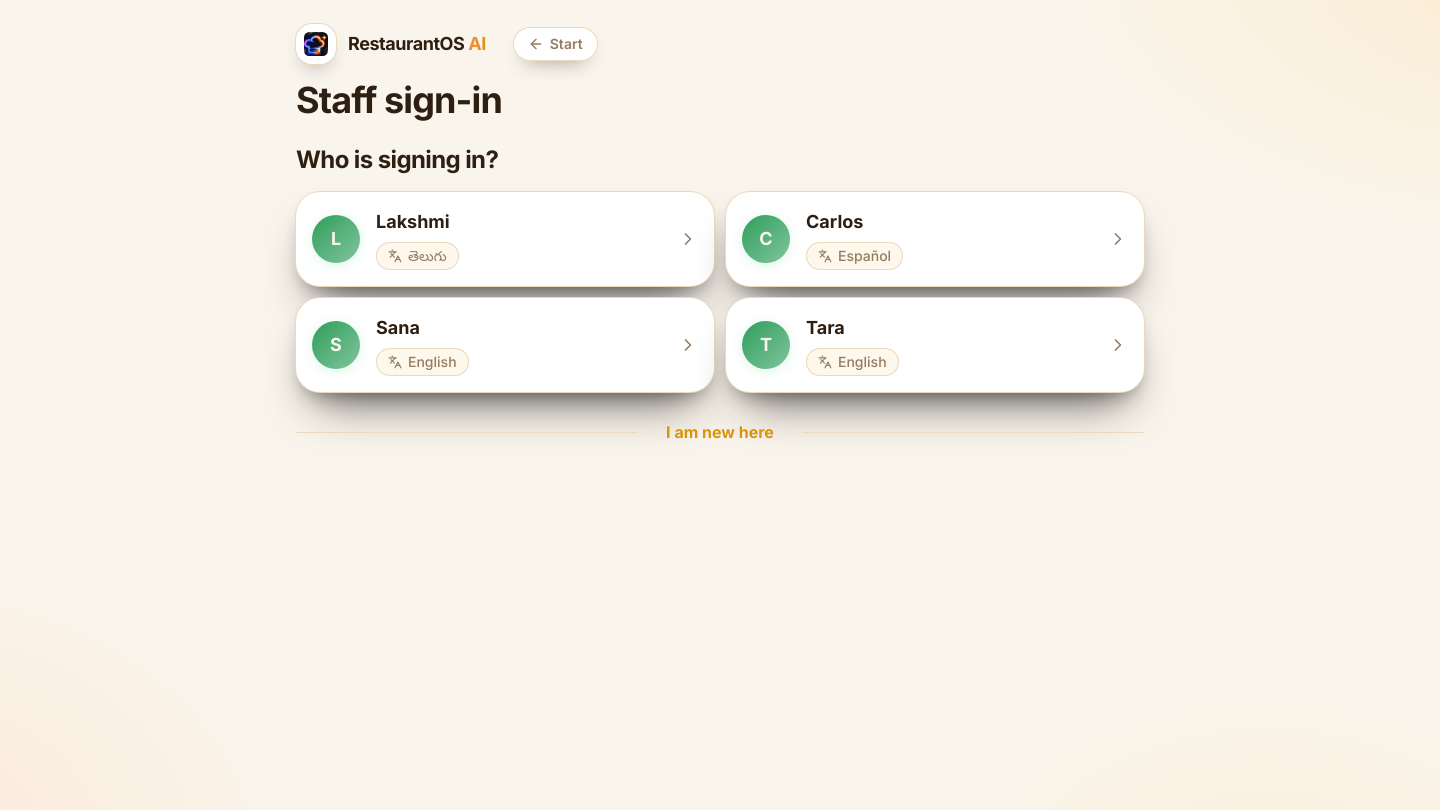
Test: login_with_the_usual_job_taken_lands_on_the_picker_with_a_note
This screenshot has width=1440, height=810.
Click the button "T Tara English" at (766, 345), box left=726, top=298, right=1144, bottom=392
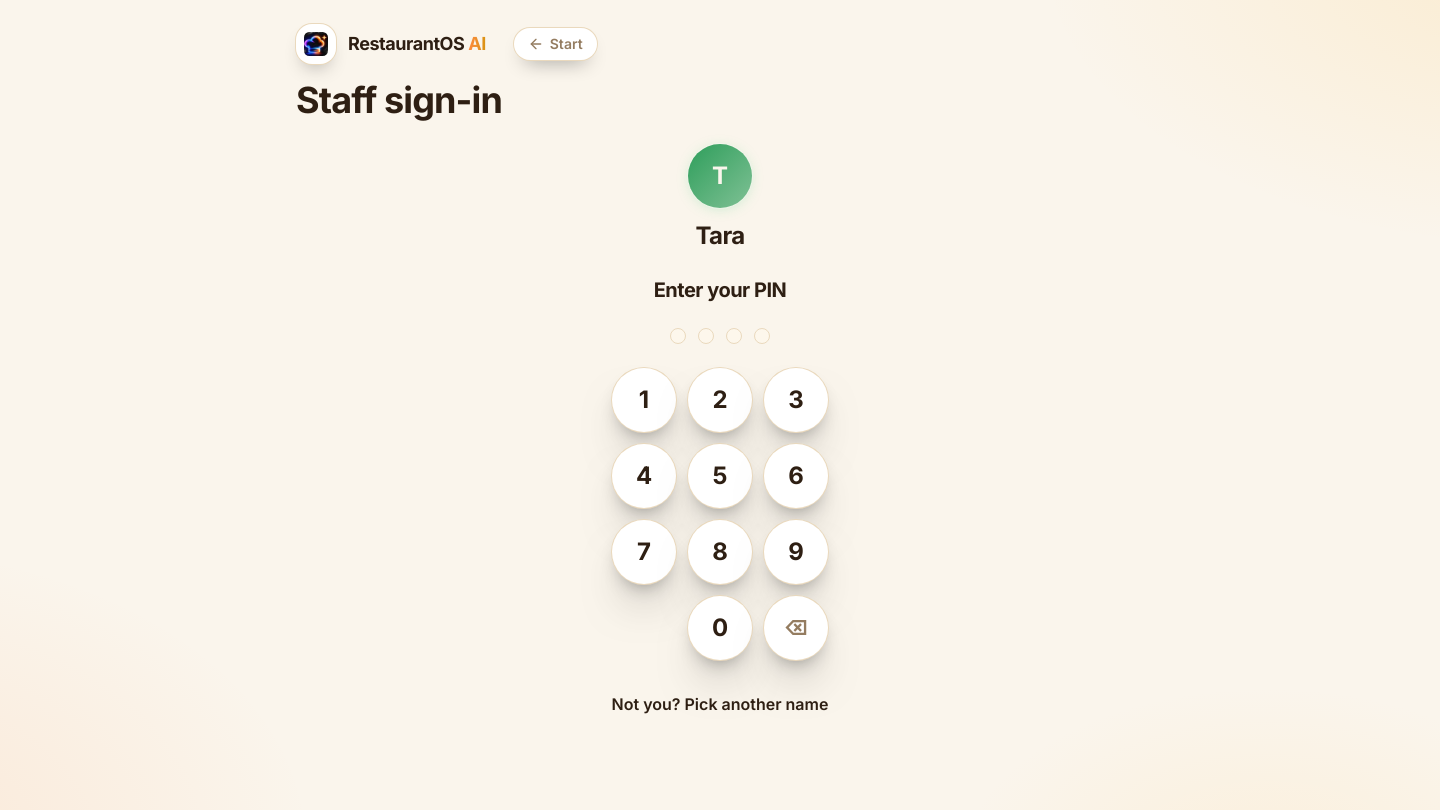
Click the button "1" at (644, 400), box left=612, top=368, right=676, bottom=432
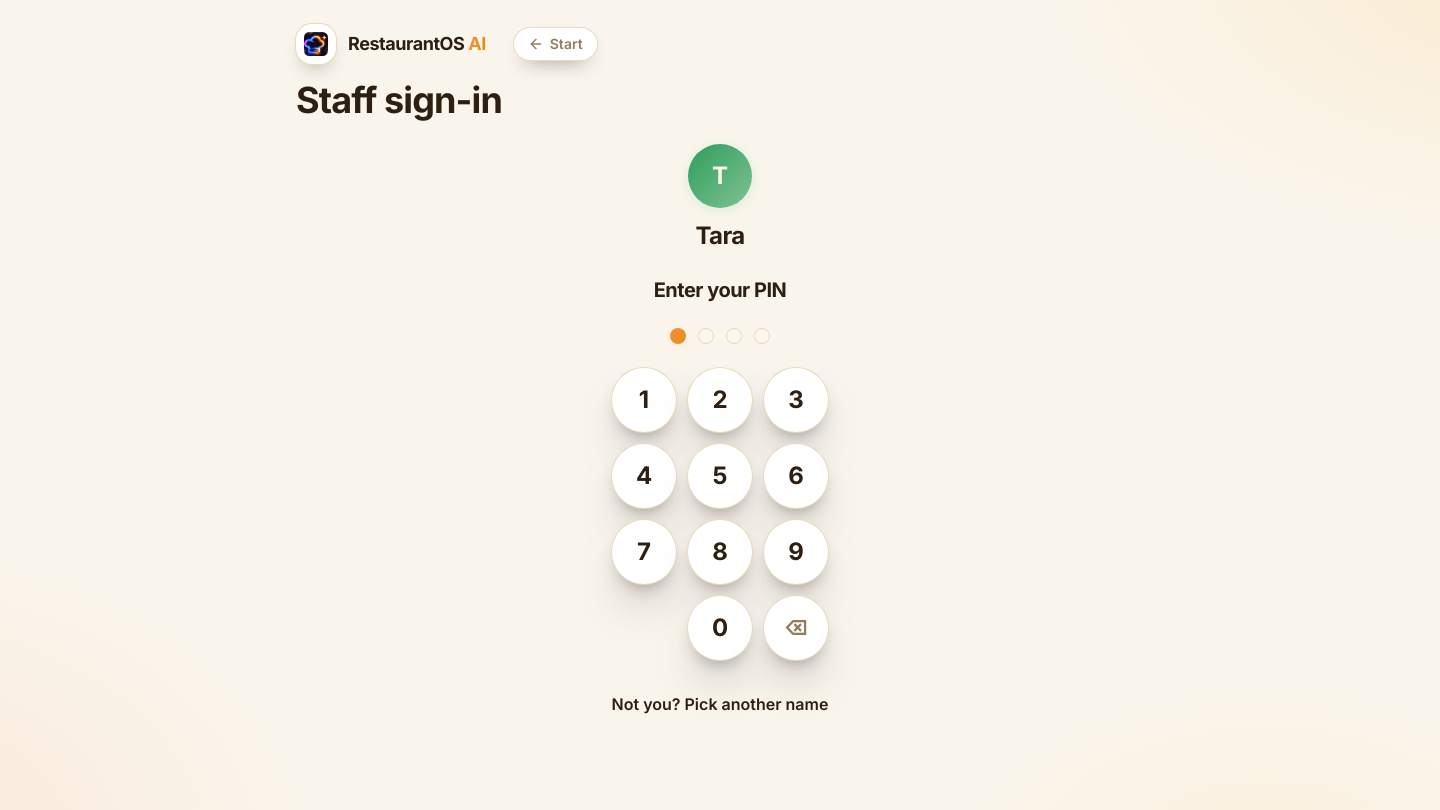
Click the button "1" at (644, 400), box left=612, top=368, right=676, bottom=432
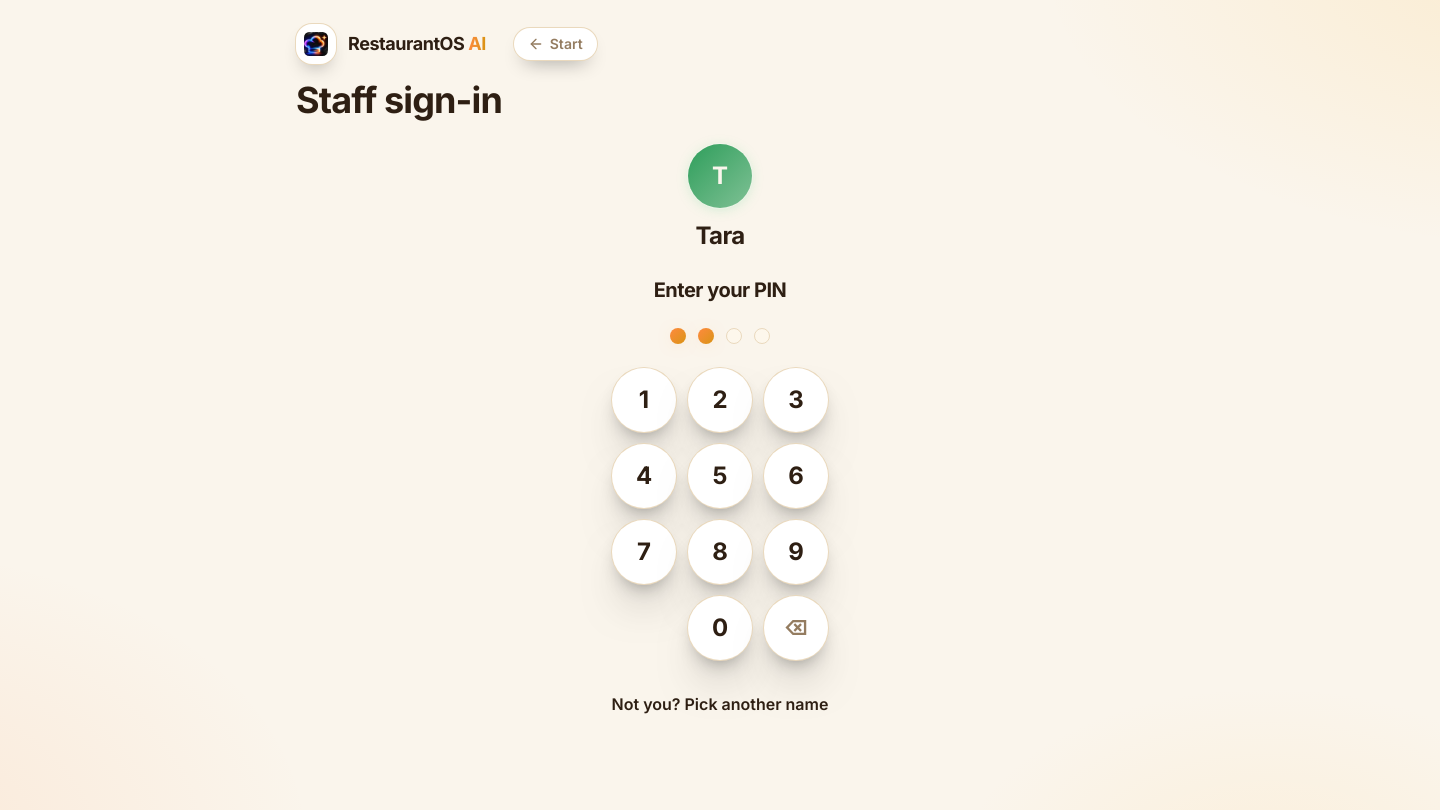
Click the button "1" at (644, 400), box left=612, top=368, right=676, bottom=432
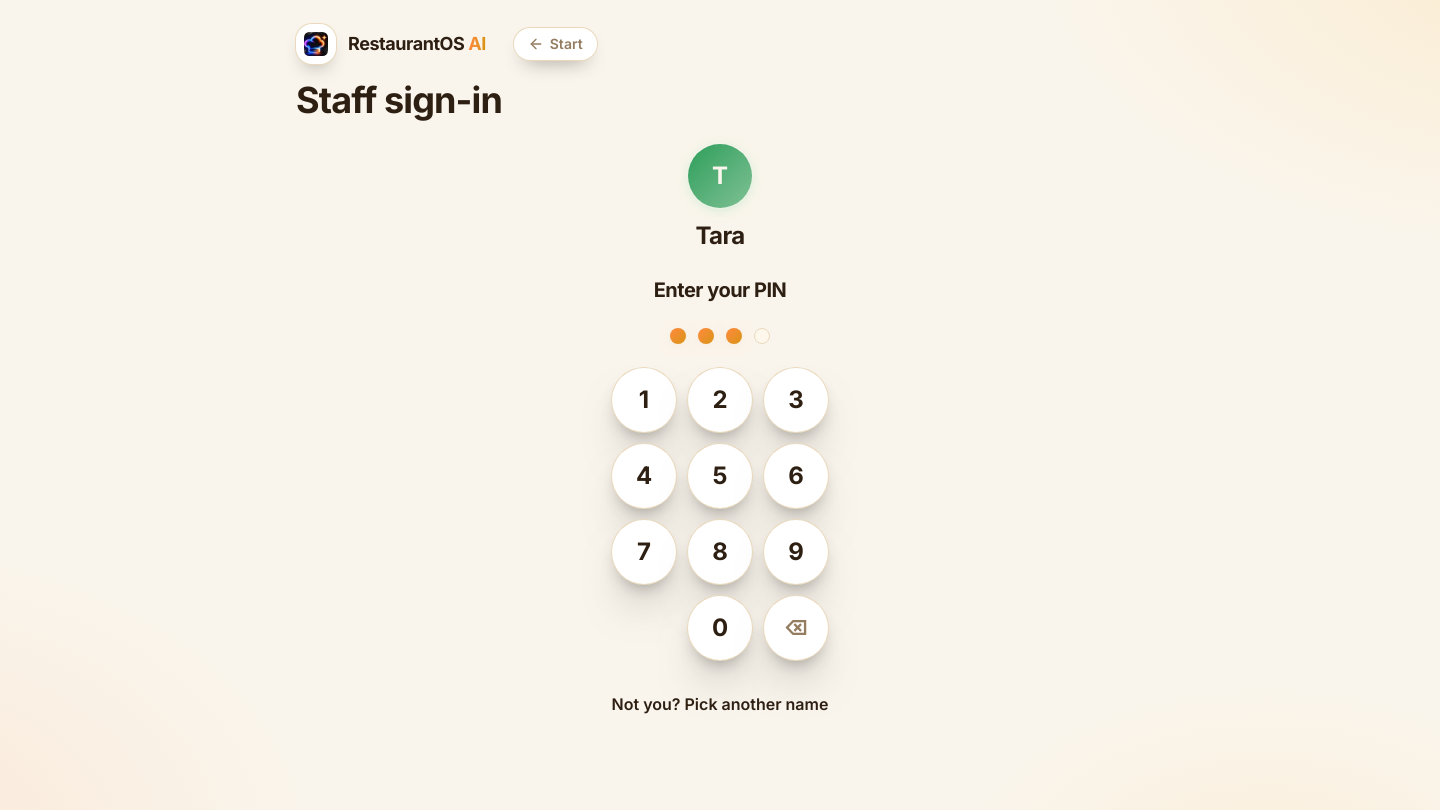
Click the button "1" at (644, 400), box left=612, top=368, right=676, bottom=432
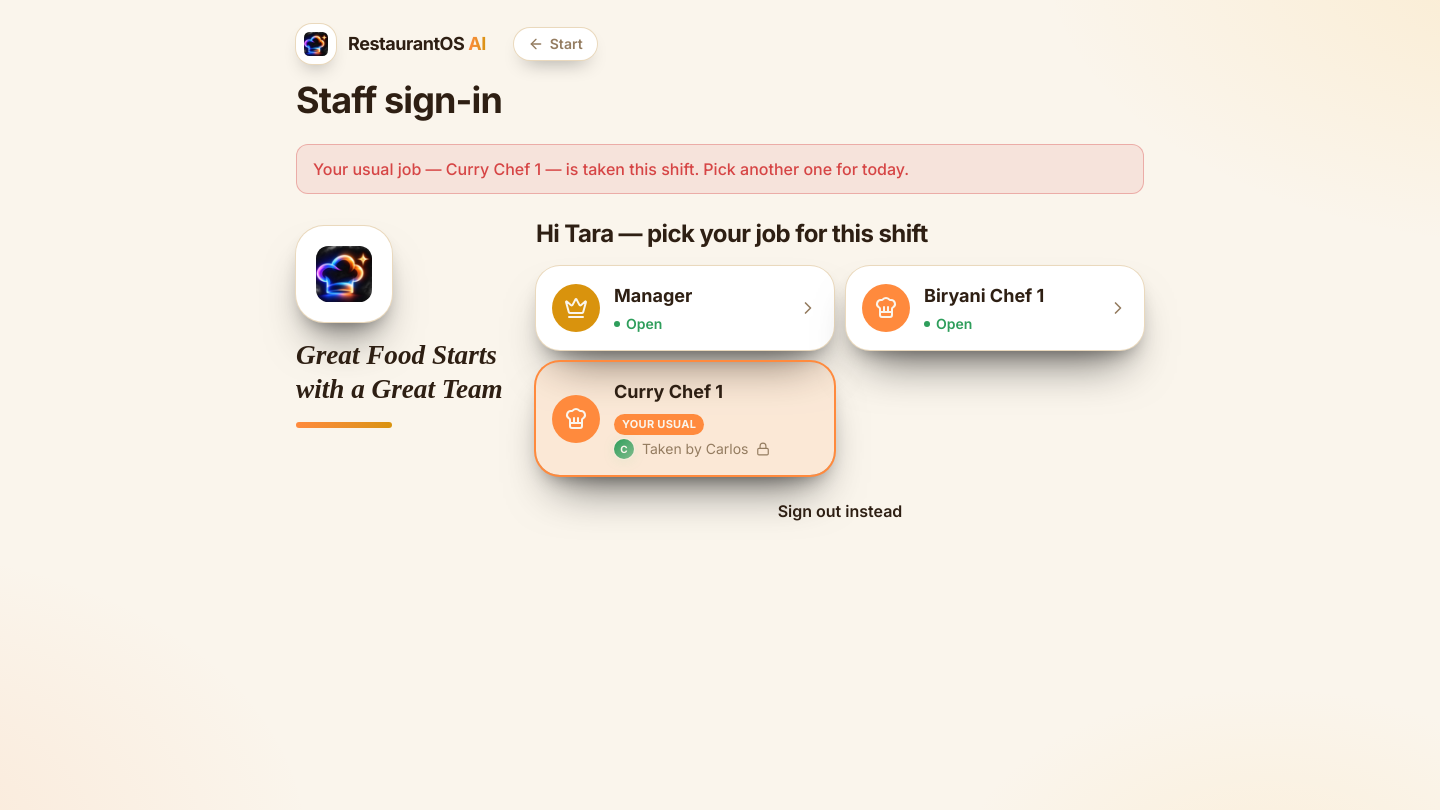
Result: the heading "Hi Tara — pick your job for this shift" is shown at left=536, top=219, right=928, bottom=248
Result: the message shows "Your usual job — Curry Chef 1 — is taken this shift" at left=313, top=159, right=909, bottom=179
